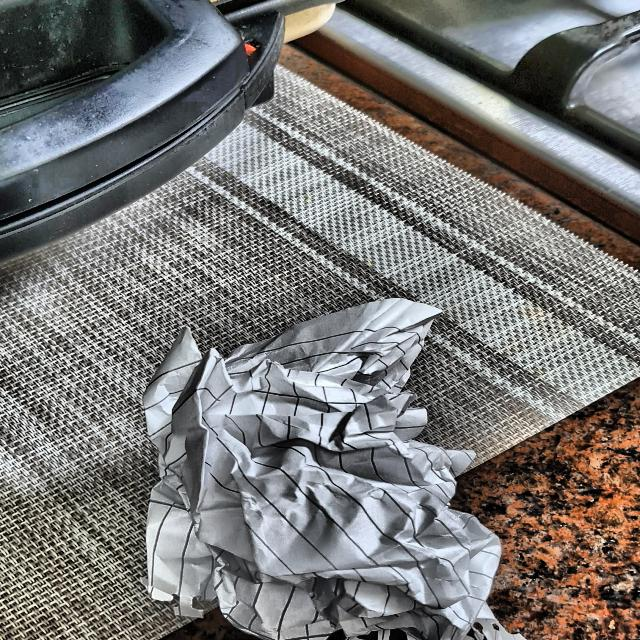paper: (151, 296, 510, 640)
